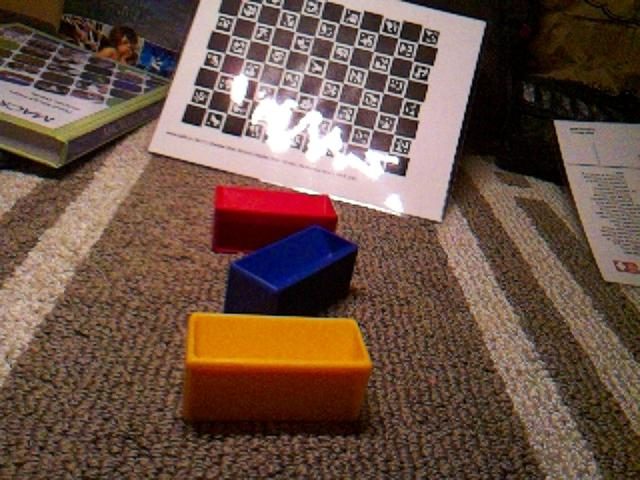blue: (222, 223, 360, 316)
red: (210, 183, 339, 255)
yellow: (181, 310, 374, 426)
